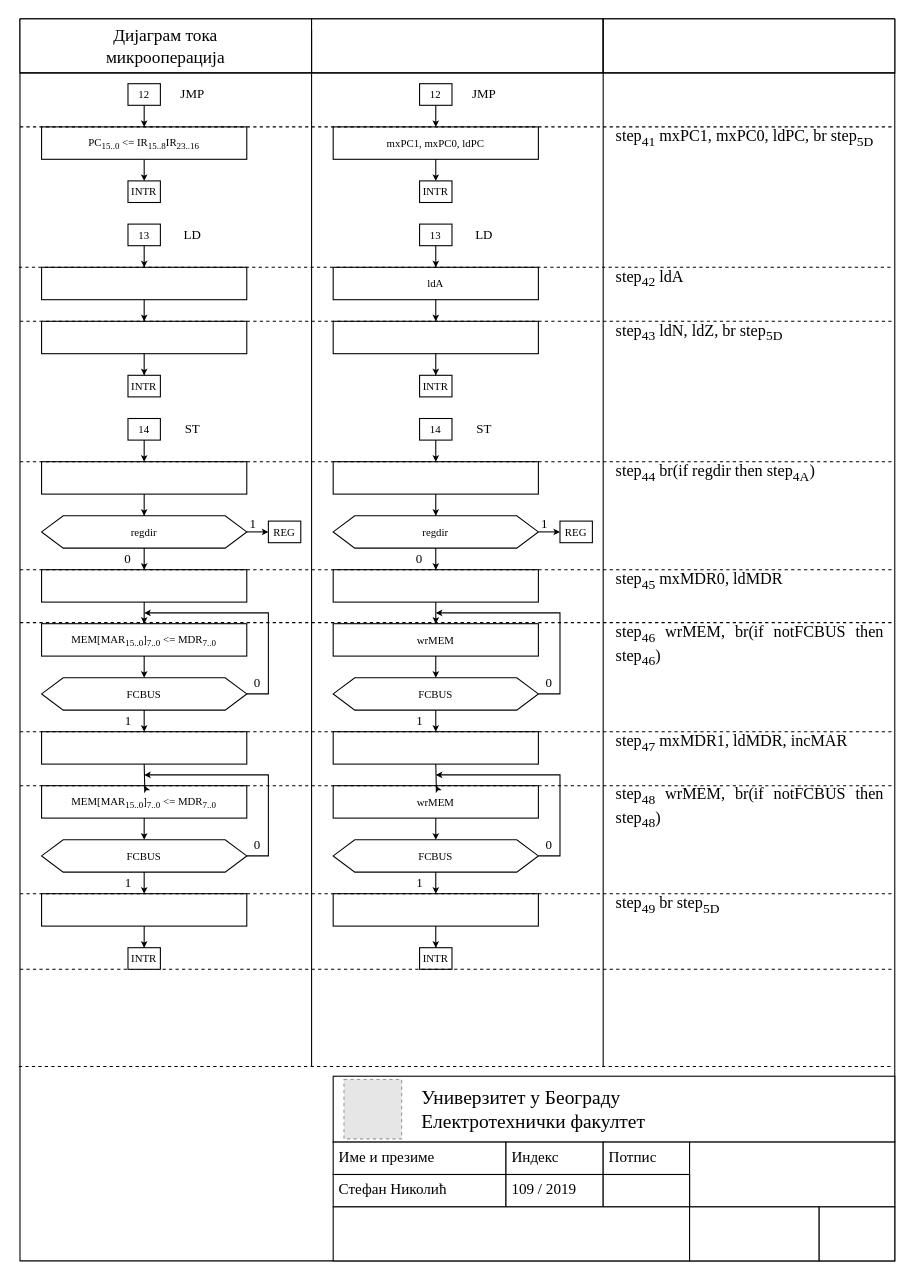
This 915x1280 diagram has some shape labels left out. Grey dashed boxes stand in for pictures. The shapes that lost their labels are listed below. From the top down, each one's centre as x and y in pixels, then its label:
the point at 456,45: Дијаграм тока управљачких сигнала
the point at 748,45: Секвенца управљачких сигнала
the point at 143,283: A 15..0 <= B 15..0
the point at 143,337: PSWN <= N, PSWZ <= Z
the point at 435,337: ldN, ldZ
the point at 143,585: MDR 7..0 <= A 7..0
the point at 435,585: mxMDR0, ldMDR
the point at 143,747: MDR 7..0 <= A 15..8 , MAR 15..0 <= MAR 15..0 + 1
the point at 435,747: mxMDR1, ldMDR, incMAR
the point at 791,1174: Пројекат Задатак 209
the point at 511,1233: Назив Основи рачунарске технике 2
the point at 753,1233: Датум 25.09.2021.
the point at 856,1233: Страна 13
